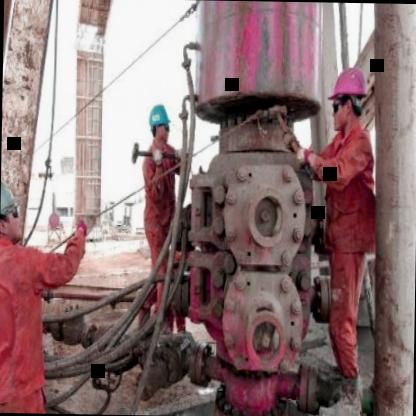helmet: (326, 60, 372, 135), (0, 178, 21, 249), (147, 98, 172, 152)
